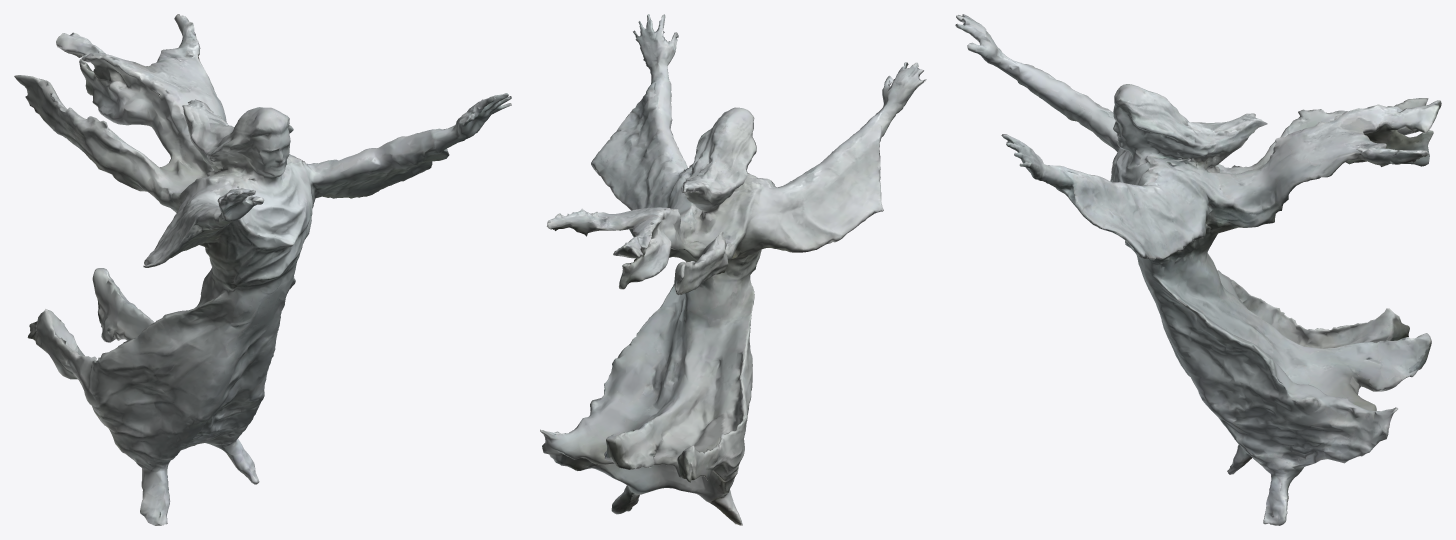
File: yesus-memberkati.glb
3 renders of one model, left to right at view 1: azimuth 30°, elevation 25°; view 2: azimuth 150°, elevation 25°; view 3: azimuth 270°, elevation 25°, orthographic. The views are drawn at different scales.
Visible parts, largest first — view 1: Object_2; view 2: Object_2; view 3: Object_2.
Part boxes in pixels (bbox=[...]): Object_2: bbox=[14, 14, 511, 525]; Object_2: bbox=[540, 14, 926, 525]; Object_2: bbox=[955, 14, 1441, 525].
Size of the model in its own units: 17.27 by 23.15 by 23.43.
1 material, 1 textured.
